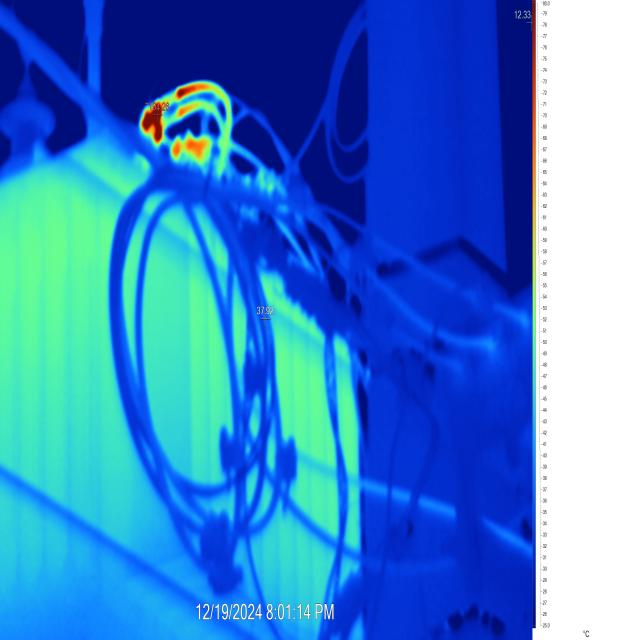Transformer: (2, 0, 529, 635)
